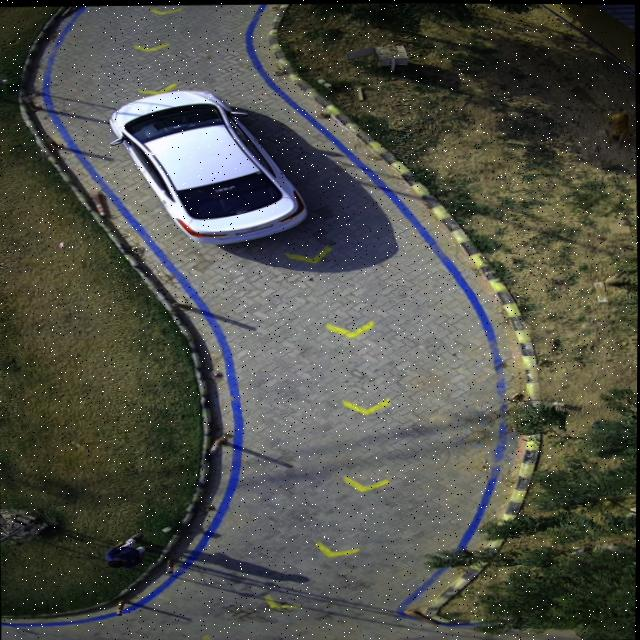car: (110, 87, 308, 244)
